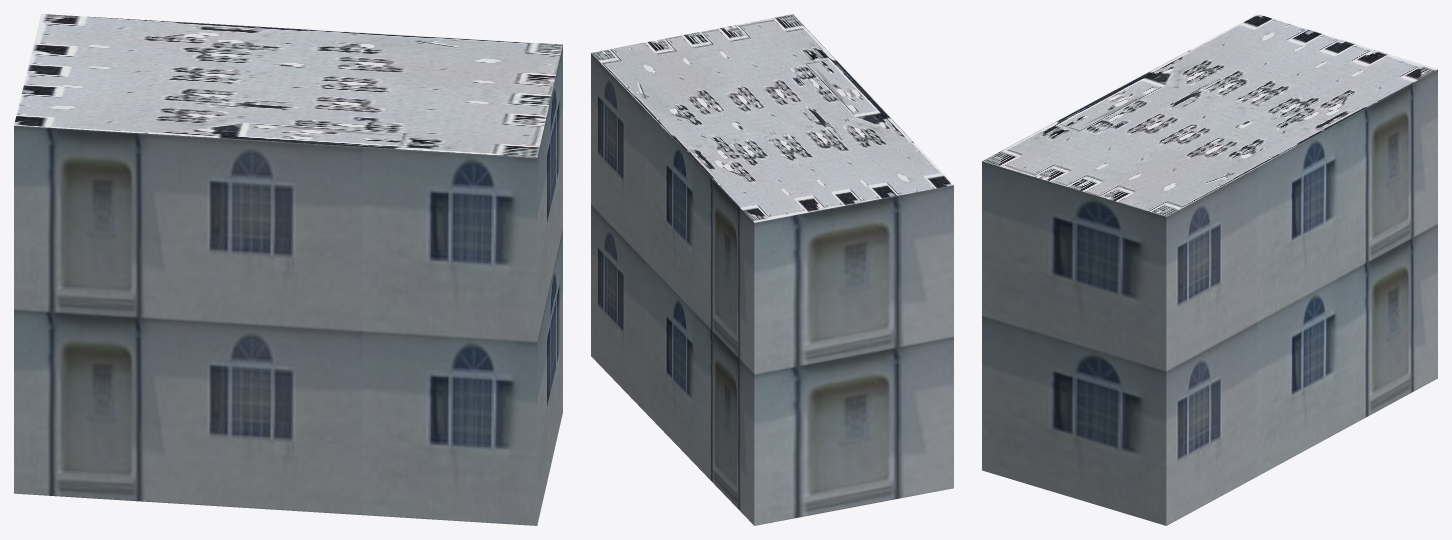
File: ResTex__4713.fbx
3 views of the same model, side by side, from view 1: azimuth 30°, elevation 25°; view 2: azimuth 150°, elevation 25°; view 3: azimuth 270°, elevation 25° (orthographic). The views are drawn at different scales.
Visible parts, largest first — view 1: CityEngineMaterial_17_m, CityEngineMaterial_8_m; view 2: CityEngineMaterial_17_m, CityEngineMaterial_8_m; view 3: CityEngineMaterial_17_m, CityEngineMaterial_8_m.
Boxes of the visible parts, left/top/right/bottom form: CityEngineMaterial_17_m: left=14, top=45, right=562, bottom=525; CityEngineMaterial_8_m: left=14, top=14, right=562, bottom=157; CityEngineMaterial_17_m: left=591, top=53, right=953, bottom=525; CityEngineMaterial_8_m: left=591, top=14, right=953, bottom=222; CityEngineMaterial_17_m: left=982, top=69, right=1437, bottom=525; CityEngineMaterial_8_m: left=982, top=14, right=1437, bottom=216.
Bounding box in the file's own units: 8.44 × 6 × 8.02.
2 materials, 2 textured.
